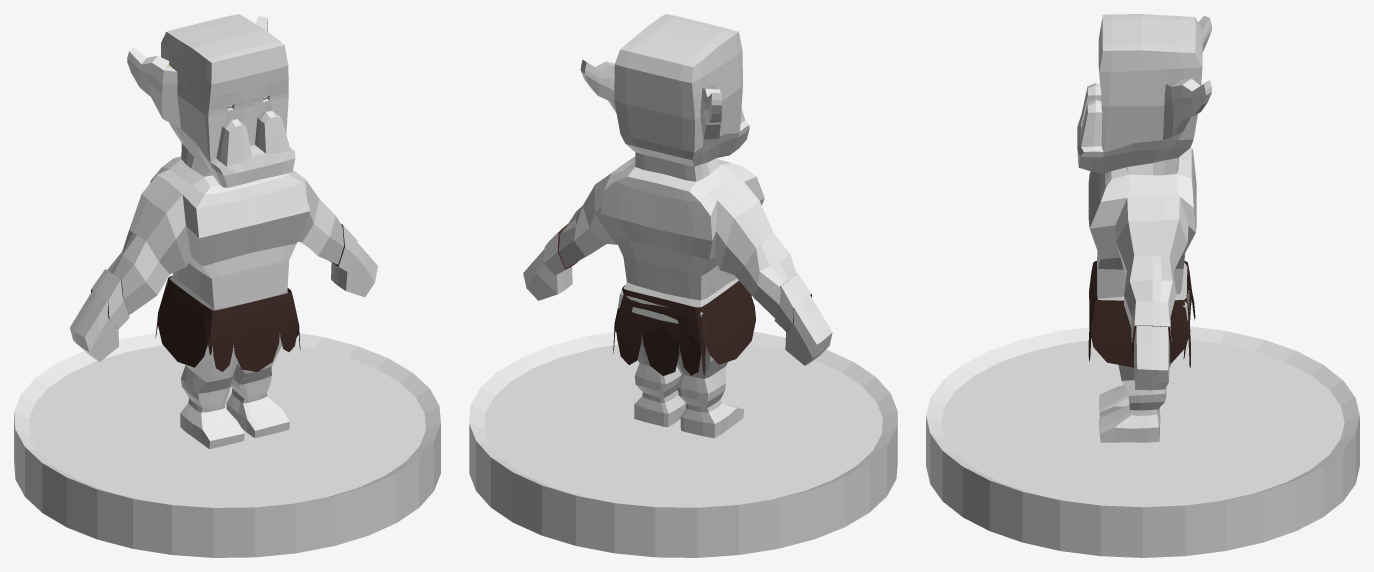
File: Game Orc.fbx
The picture shows the model from 3 angles, left to right: view 1: azimuth 30°, elevation 25°; view 2: azimuth 150°, elevation 25°; view 3: azimuth 270°, elevation 25°; orthographic projection.
Parts seen in each view (by area): view 1: Stand, Orc, Loin Cloth; view 2: Stand, Orc, Loin Cloth; view 3: Stand, Orc, Loin Cloth.
Boxes of the visible parts, box(x1,y1,x2,y2) form: Stand: box(14, 332, 440, 557); Orc: box(70, 14, 377, 448); Loin Cloth: box(155, 276, 300, 371); Stand: box(469, 331, 897, 557); Orc: box(523, 14, 832, 438); Loin Cloth: box(613, 281, 755, 375); Stand: box(926, 326, 1359, 557); Orc: box(1077, 14, 1211, 442); Loin Cloth: box(1088, 261, 1195, 368).
Size of the model in its own units: 384 by 425 by 384.
